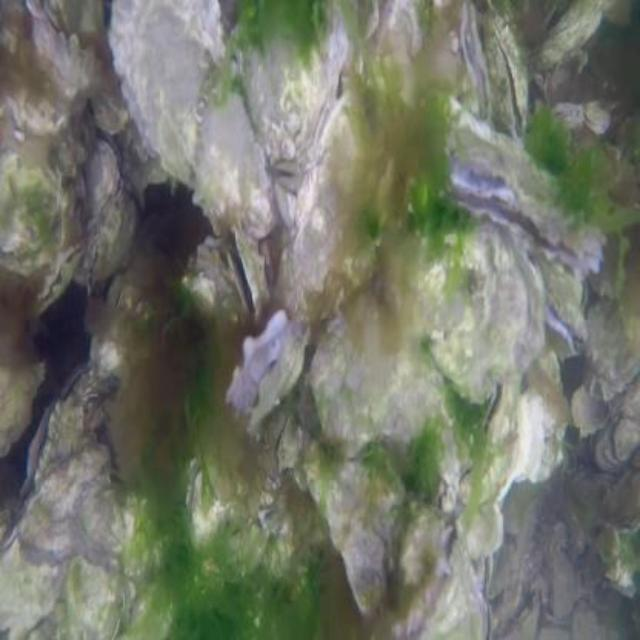Oyster-Closed: (112, 0, 270, 235), (380, 212, 544, 395), (312, 291, 444, 448), (305, 444, 407, 621), (21, 433, 122, 561), (456, 383, 545, 504), (193, 91, 271, 224), (403, 545, 493, 638), (0, 150, 69, 269), (33, 18, 104, 103), (584, 299, 638, 395), (65, 557, 126, 638), (539, 0, 602, 68), (345, 525, 387, 615), (184, 456, 223, 552), (461, 3, 491, 120), (85, 129, 122, 219), (457, 504, 504, 557), (584, 101, 612, 135), (552, 103, 584, 132), (616, 420, 638, 460)
Oyster-Open: (427, 103, 606, 275), (22, 363, 99, 494), (226, 314, 310, 433), (485, 10, 526, 142), (226, 223, 272, 330), (450, 134, 520, 200), (545, 265, 588, 354), (32, 245, 86, 314), (477, 556, 494, 596), (276, 163, 302, 187), (107, 469, 127, 490)
